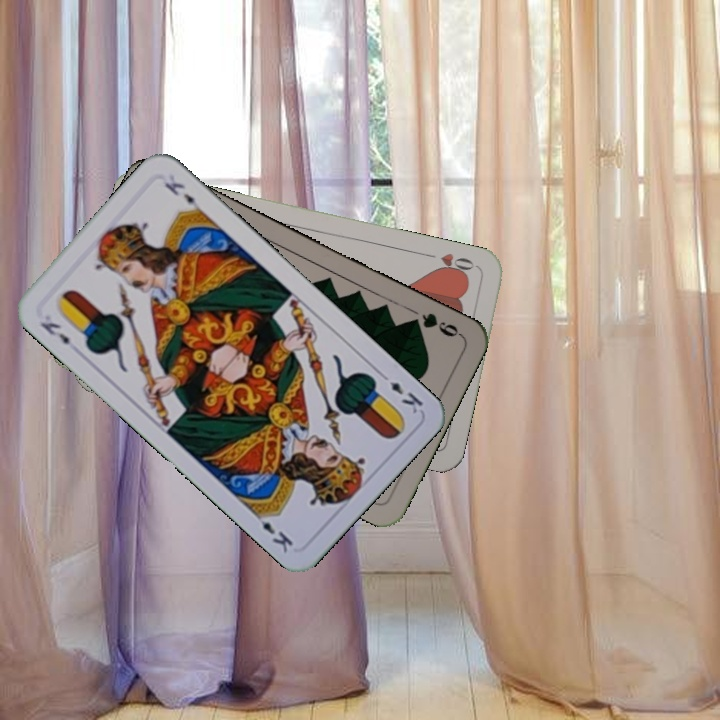EK: (375, 368, 426, 416), (36, 317, 73, 348)
G9: (405, 309, 464, 340)
HO: (421, 249, 480, 279)
